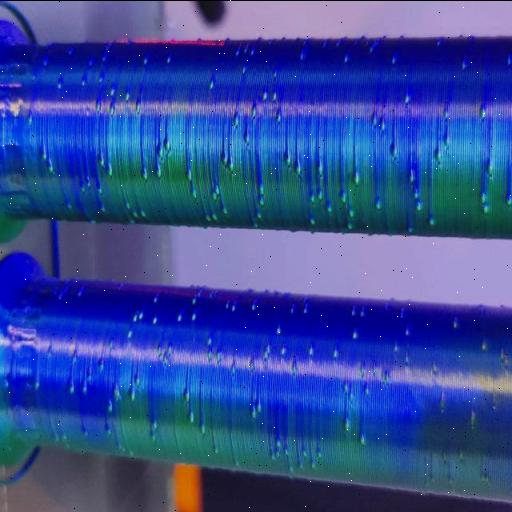blobs: (358, 426, 373, 450), (348, 168, 362, 186), (292, 156, 306, 174), (102, 160, 116, 178), (64, 377, 78, 395), (441, 126, 452, 148), (208, 186, 222, 202), (280, 146, 292, 163), (340, 413, 350, 433), (97, 198, 108, 216), (340, 50, 354, 64), (138, 50, 152, 64), (76, 72, 90, 86), (402, 92, 414, 108), (131, 309, 144, 323), (98, 48, 108, 66), (450, 314, 461, 330), (24, 108, 35, 124), (41, 53, 52, 69), (388, 142, 400, 156), (430, 146, 442, 160), (248, 102, 260, 116), (220, 203, 232, 217), (154, 144, 166, 158), (162, 52, 176, 64), (76, 284, 88, 298), (45, 160, 57, 174), (78, 184, 90, 198), (112, 382, 122, 398), (106, 395, 116, 411), (275, 108, 285, 124), (228, 154, 236, 174), (107, 101, 117, 117), (138, 164, 148, 180), (456, 448, 466, 464), (80, 376, 90, 392), (296, 48, 307, 62), (389, 50, 400, 64), (398, 304, 409, 318), (458, 55, 468, 70), (84, 177, 96, 189), (254, 398, 264, 412), (186, 409, 196, 423), (404, 324, 414, 338), (97, 356, 107, 370), (378, 115, 388, 129), (410, 183, 420, 197), (308, 191, 318, 205), (232, 112, 242, 126), (208, 76, 218, 90), (210, 207, 220, 221), (162, 137, 172, 151), (121, 87, 131, 101), (96, 156, 106, 170), (478, 188, 488, 202), (467, 410, 477, 424), (70, 350, 80, 364), (102, 422, 112, 436), (64, 201, 74, 215), (300, 302, 312, 313), (188, 186, 199, 198), (340, 190, 350, 203), (256, 209, 266, 222), (485, 160, 495, 173), (480, 200, 490, 213), (221, 148, 229, 164), (340, 378, 349, 392), (503, 194, 512, 208), (361, 384, 373, 394), (350, 328, 360, 340), (248, 406, 258, 418), (250, 299, 260, 311), (288, 302, 298, 314), (124, 328, 134, 340), (242, 127, 250, 142), (478, 105, 488, 117), (184, 388, 192, 402), (198, 418, 206, 432), (247, 44, 255, 58), (258, 181, 266, 195), (202, 212, 210, 226), (97, 182, 105, 196), (238, 64, 249, 74), (122, 197, 132, 208), (434, 38, 444, 49), (81, 425, 91, 436), (347, 206, 356, 218), (316, 188, 324, 201), (212, 441, 220, 454), (348, 306, 358, 316), (204, 336, 214, 346), (189, 308, 199, 318), (150, 418, 160, 428), (152, 292, 162, 302), (428, 216, 438, 226), (232, 46, 242, 56), (86, 56, 96, 66), (30, 378, 40, 388), (274, 325, 282, 337), (370, 111, 378, 123), (408, 168, 416, 180), (258, 192, 266, 204), (150, 432, 158, 444), (392, 342, 400, 354), (479, 340, 487, 352), (67, 44, 75, 56), (129, 390, 138, 400), (326, 203, 336, 212), (229, 362, 237, 373), (375, 199, 383, 210), (262, 89, 270, 100), (154, 167, 162, 178), (39, 149, 47, 160), (332, 346, 338, 360), (134, 372, 140, 386), (108, 82, 114, 96), (56, 76, 62, 90), (348, 390, 356, 400), (273, 438, 281, 448), (306, 344, 314, 354), (229, 302, 237, 312), (186, 168, 194, 178), (132, 104, 142, 112), (224, 297, 230, 310), (416, 197, 422, 210), (270, 89, 276, 102), (297, 458, 303, 470), (249, 360, 256, 370), (131, 205, 137, 216), (302, 446, 308, 456), (284, 445, 290, 455), (176, 312, 182, 322), (140, 206, 146, 216), (281, 345, 288, 353), (310, 460, 316, 469), (316, 448, 322, 456), (276, 449, 282, 457), (154, 316, 160, 322)
